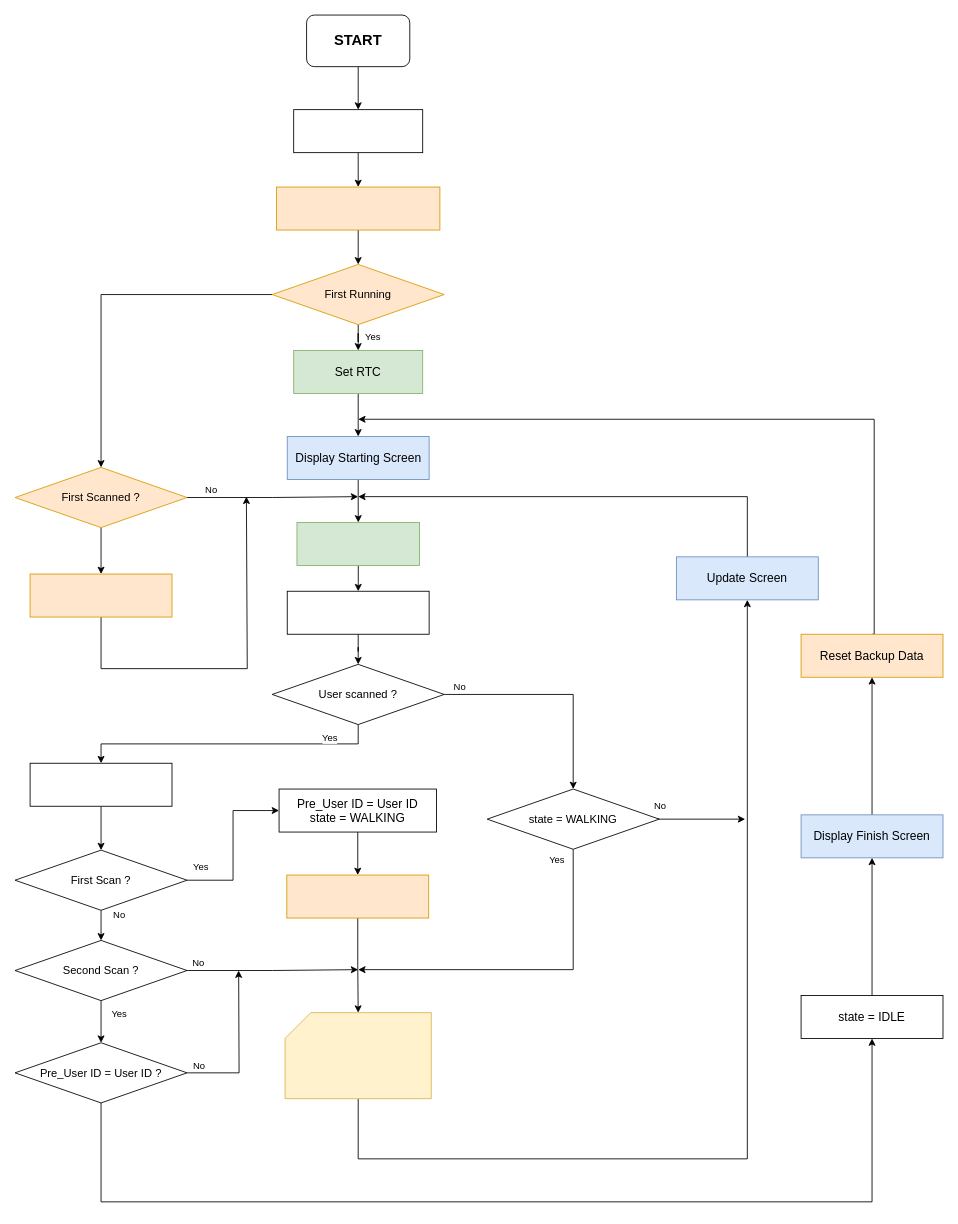
This 958x1224 diagram has some shape labels left out. The centre of each missing label's shape, as x and y in pixels:
Check Backup Flag in Flash: (x=358, y=208)
Check user scanning: (x=357, y=612)
Get Time: (x=358, y=543)
Get User ID: (x=100, y=784)
Get User ID in Flash: (x=100, y=595)
Step Counting: (x=357, y=1055)
System Init: (x=358, y=131)
Turn on Backup Flag Backup User ID: (x=357, y=896)
